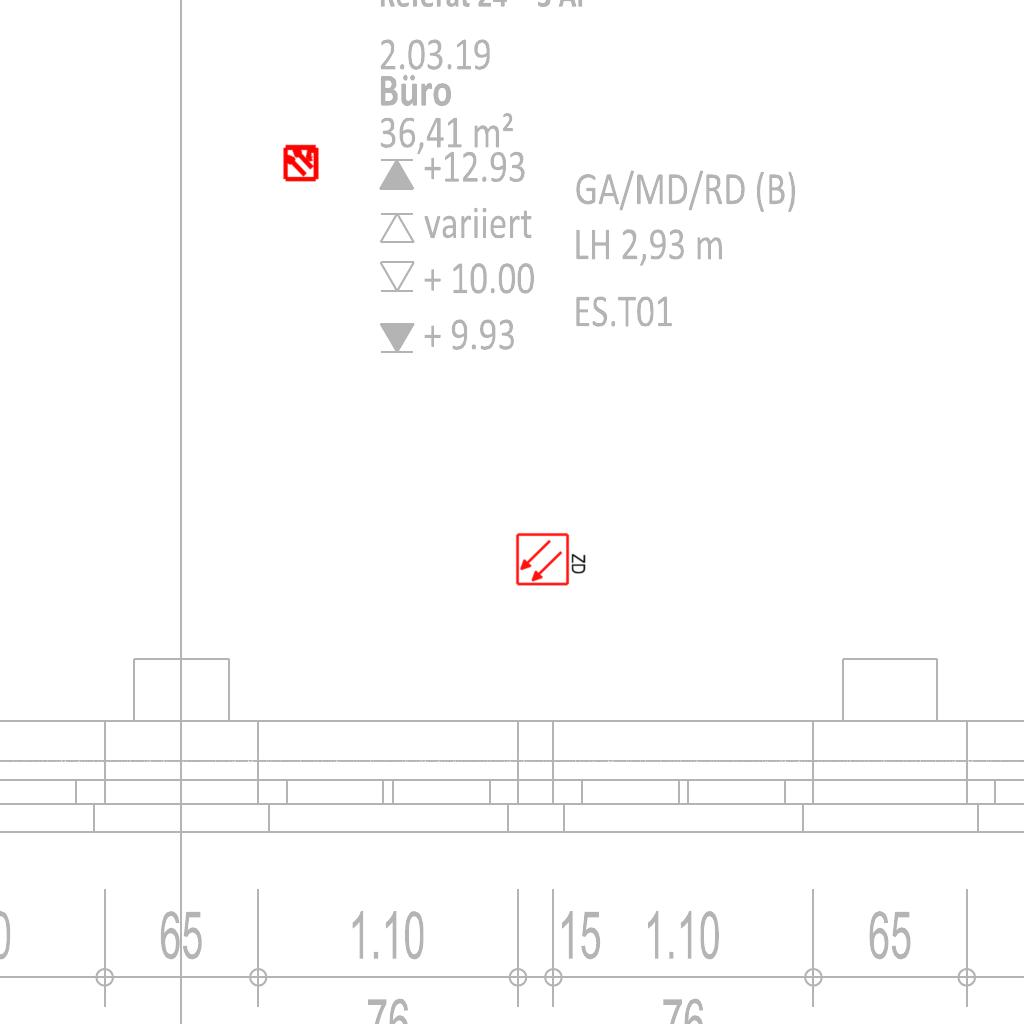OT_Multisensormelder_(Kombination_RMO_WMD): (273, 134, 329, 190)
ZD_Melder_in_Zwischendecke_mit_Revisionsoeffnung_mind_40_x_40_cm: (515, 530, 589, 587)
